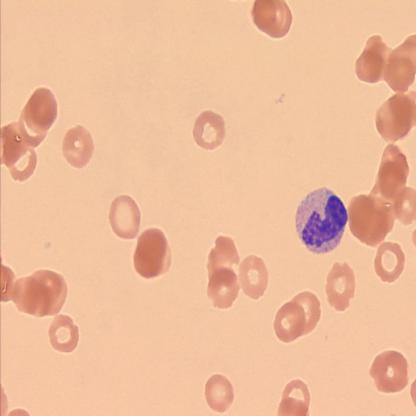Band Neutrophil: (294, 185, 351, 255)
